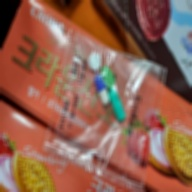러키펜정: (89, 53, 101, 72)
씨엠지세파클러캡슐: (94, 73, 110, 107)
에르도캡슐: (109, 88, 126, 122)
휴티렌정: (101, 66, 116, 89)
